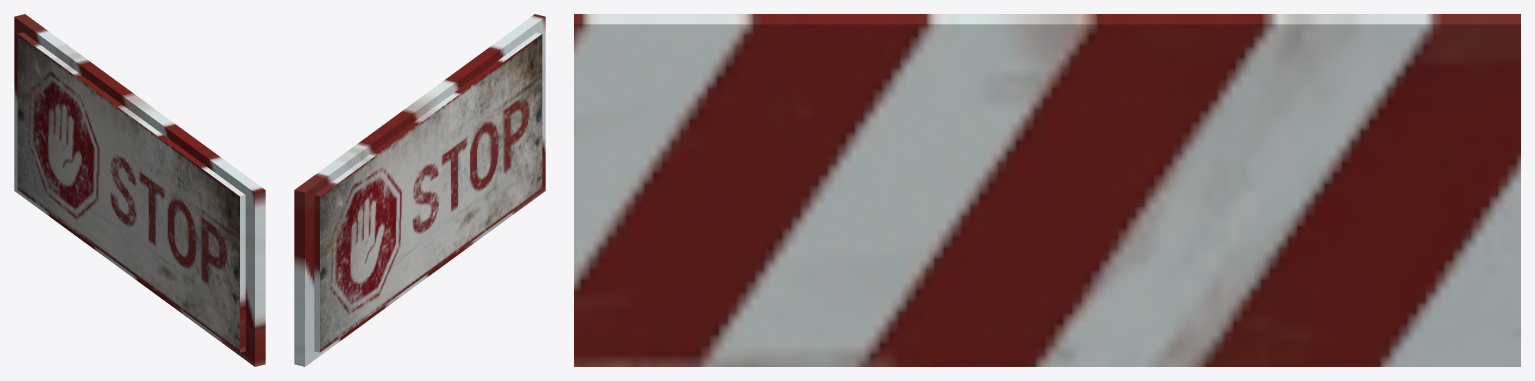
Rendered from StopSign.fbx.
3 views of the same model, side by side, from view 1: azimuth 30°, elevation 25°; view 2: azimuth 150°, elevation 25°; view 3: azimuth 270°, elevation 25° (orthographic). The views are drawn at different scales.
Visible parts, largest first — view 1: Cube.038; view 2: Cube.038; view 3: Cube.038.
Part boxes in pixels (<box>): Cube.038: <box>14,14,265,366</box>; Cube.038: <box>294,14,545,366</box>; Cube.038: <box>574,14,1520,366</box>.
Bounding box in the file's own units: 2.64 × 26.42 × 66.2.
